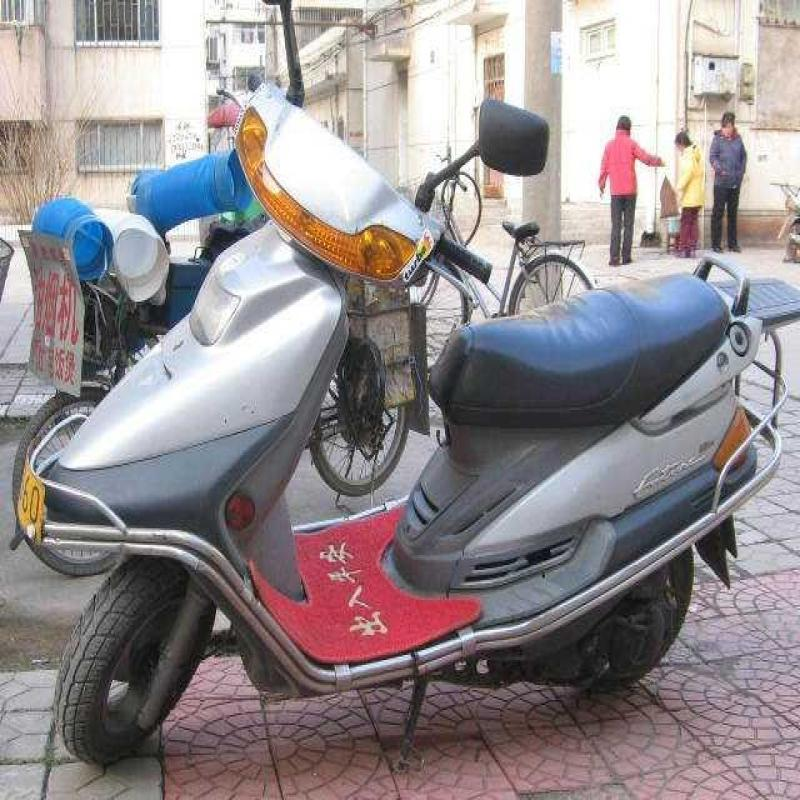bike: (49, 47, 774, 766)
